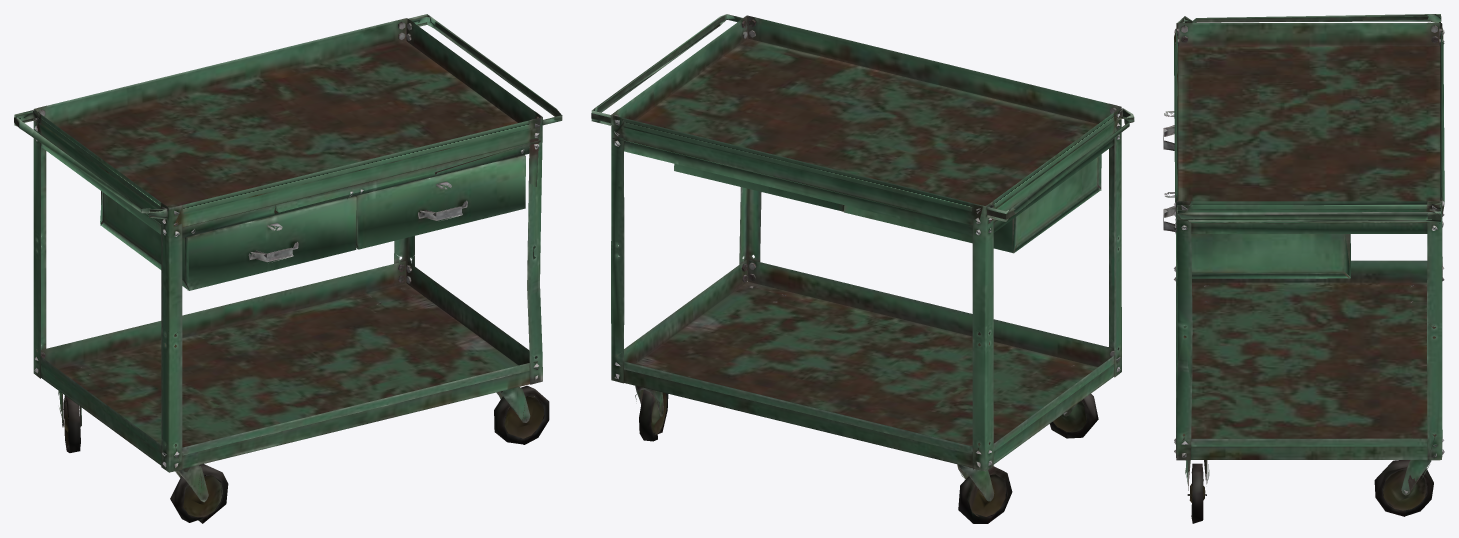
The model's file is ph_tool_cart.glb.
3 views of the same model, side by side, from view 1: azimuth 30°, elevation 25°; view 2: azimuth 150°, elevation 25°; view 3: azimuth 270°, elevation 25° (orthographic). The views are drawn at different scales.
Visible parts, largest first — view 1: tool_cart; view 2: tool_cart; view 3: tool_cart.
Part boxes in pixels (left/top/right/bottom): tool_cart: left=14, top=14, right=562, bottom=523; tool_cart: left=591, top=14, right=1134, bottom=523; tool_cart: left=1163, top=14, right=1444, bottom=523.
Bounding box in the file's own units: 1.28 × 0.9659 × 0.7555.
Materials: 1 (1 with a texture image).
